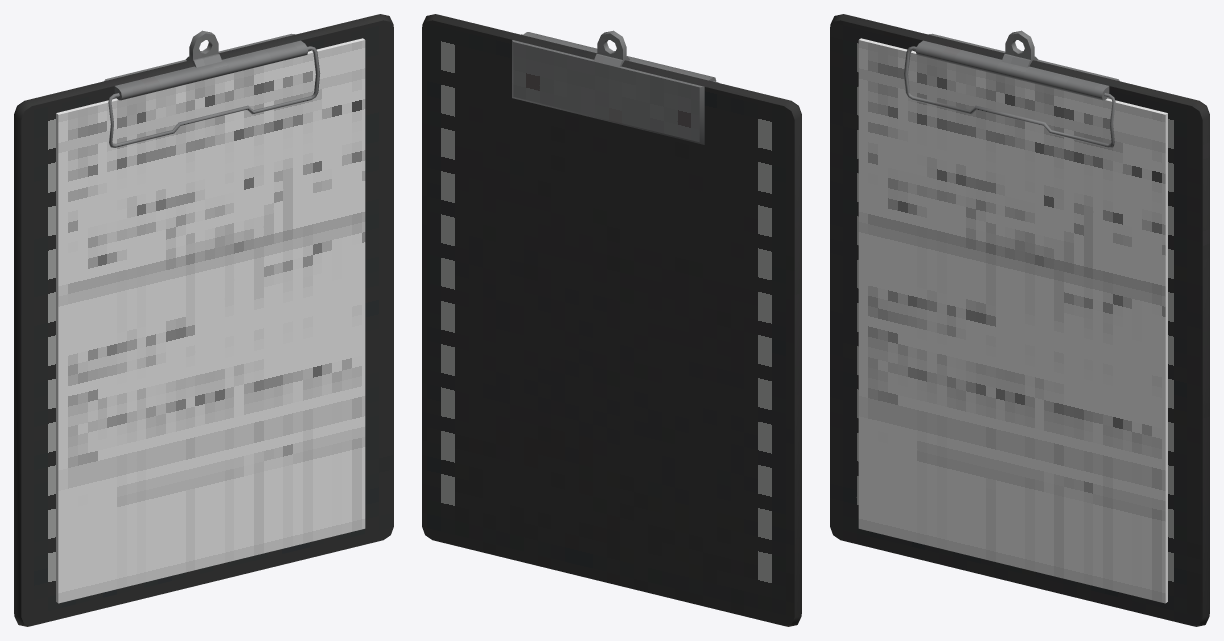
File: paper_pad.obj
3 renders of one model, left to right at view 1: azimuth 30°, elevation 25°; view 2: azimuth 150°, elevation 25°; view 3: azimuth 330°, elevation 25°, orthographic.
Visible parts, largest first — view 1: paperpad; view 2: paperpad; view 3: paperpad.
Boxes of the visible parts, x1,y1,x2,y2 form: paperpad: [14, 14, 393, 626]; paperpad: [422, 14, 801, 626]; paperpad: [830, 14, 1209, 626].
Size of the model in its own units: 0.5906 by 0.8212 by 0.0484.
